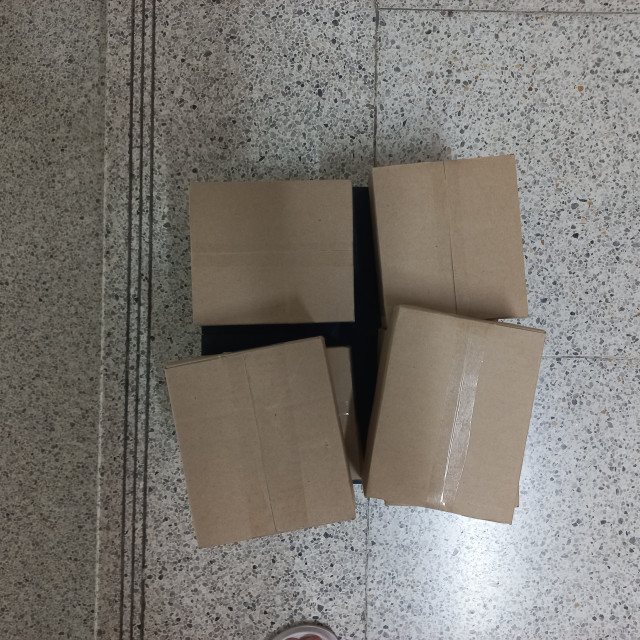box: (149, 112, 289, 341), (294, 91, 438, 307), (160, 314, 286, 490), (292, 311, 420, 464)
